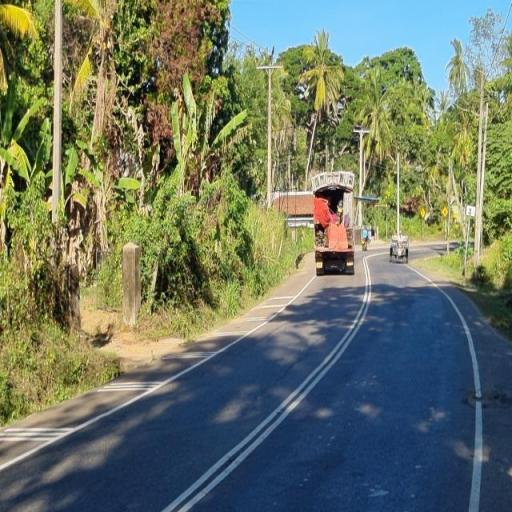double_white_line: (161, 251, 376, 511)
